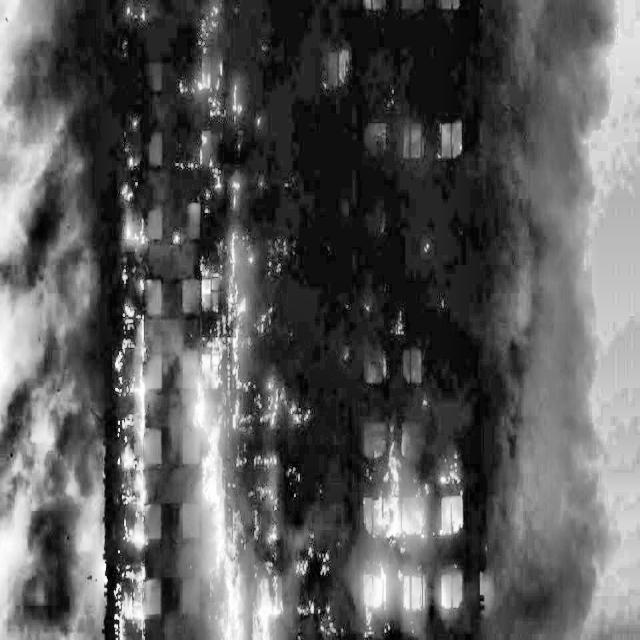fire: (101, 1, 491, 640)
